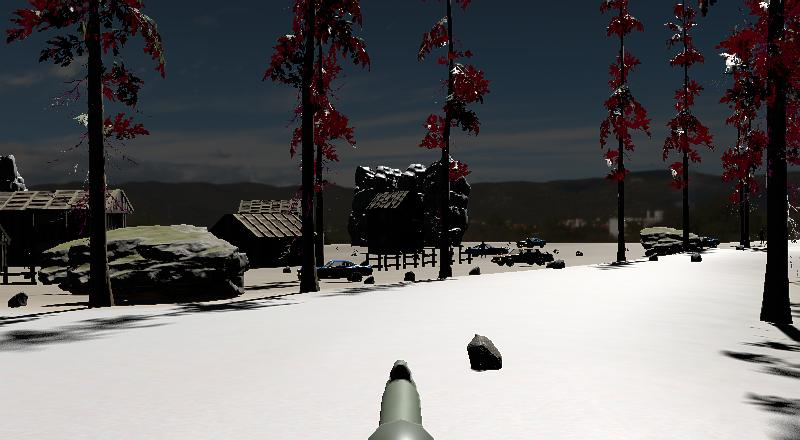car: (302, 257, 374, 284), (308, 258, 374, 284), (491, 246, 558, 268)
